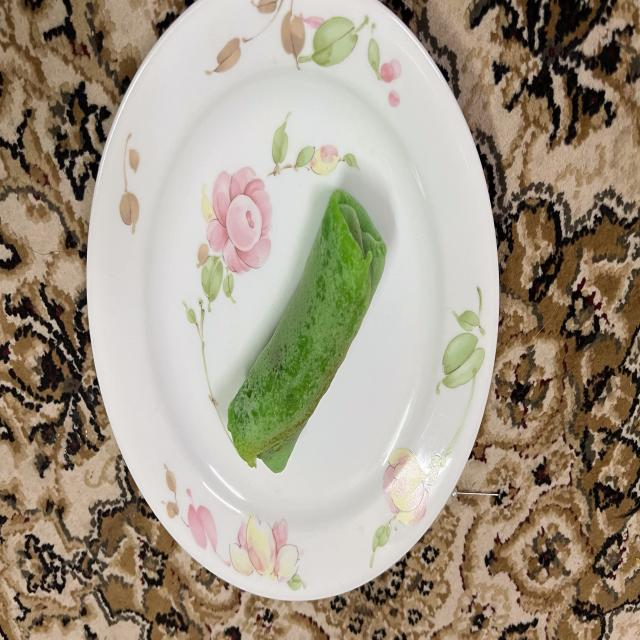Kuih-Ketayap: (228, 191, 386, 473)
